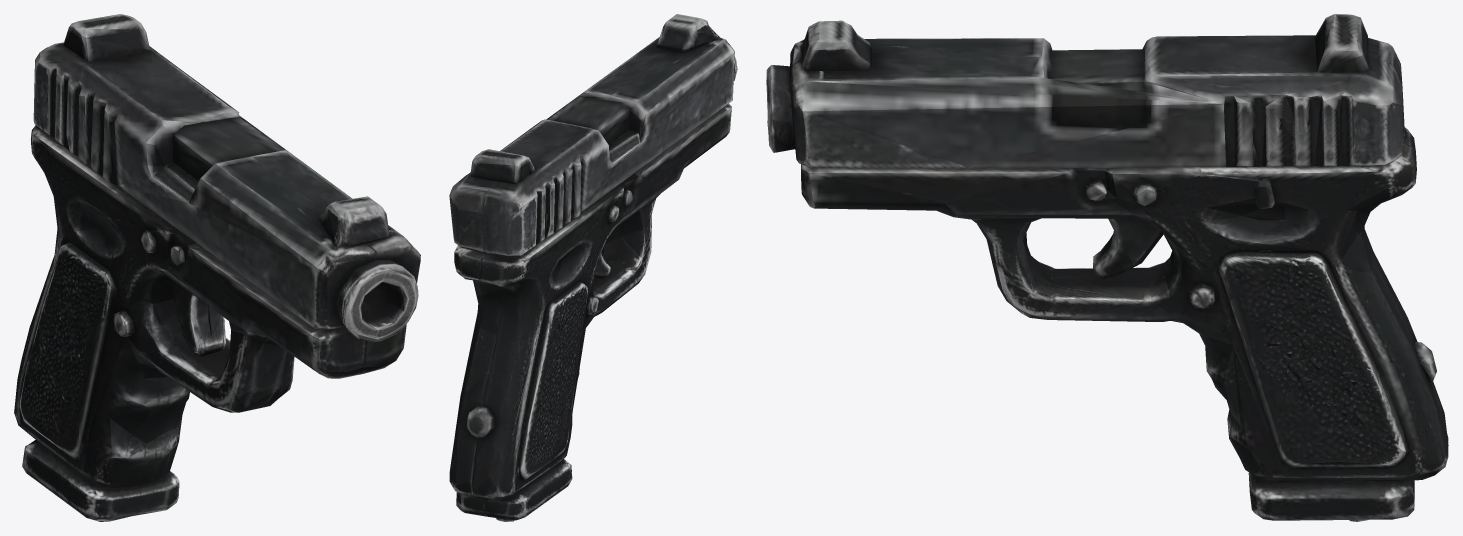
File: gun_nine.glb
The picture shows the model from 3 angles, left to right: view 1: azimuth 30°, elevation 25°; view 2: azimuth 150°, elevation 25°; view 3: azimuth 270°, elevation 25°; orthographic projection. The views are drawn at different scales.
Size of the model in its own units: 0.0405 by 0.1609 by 0.2.
Materials: 1 (1 with a texture image).
